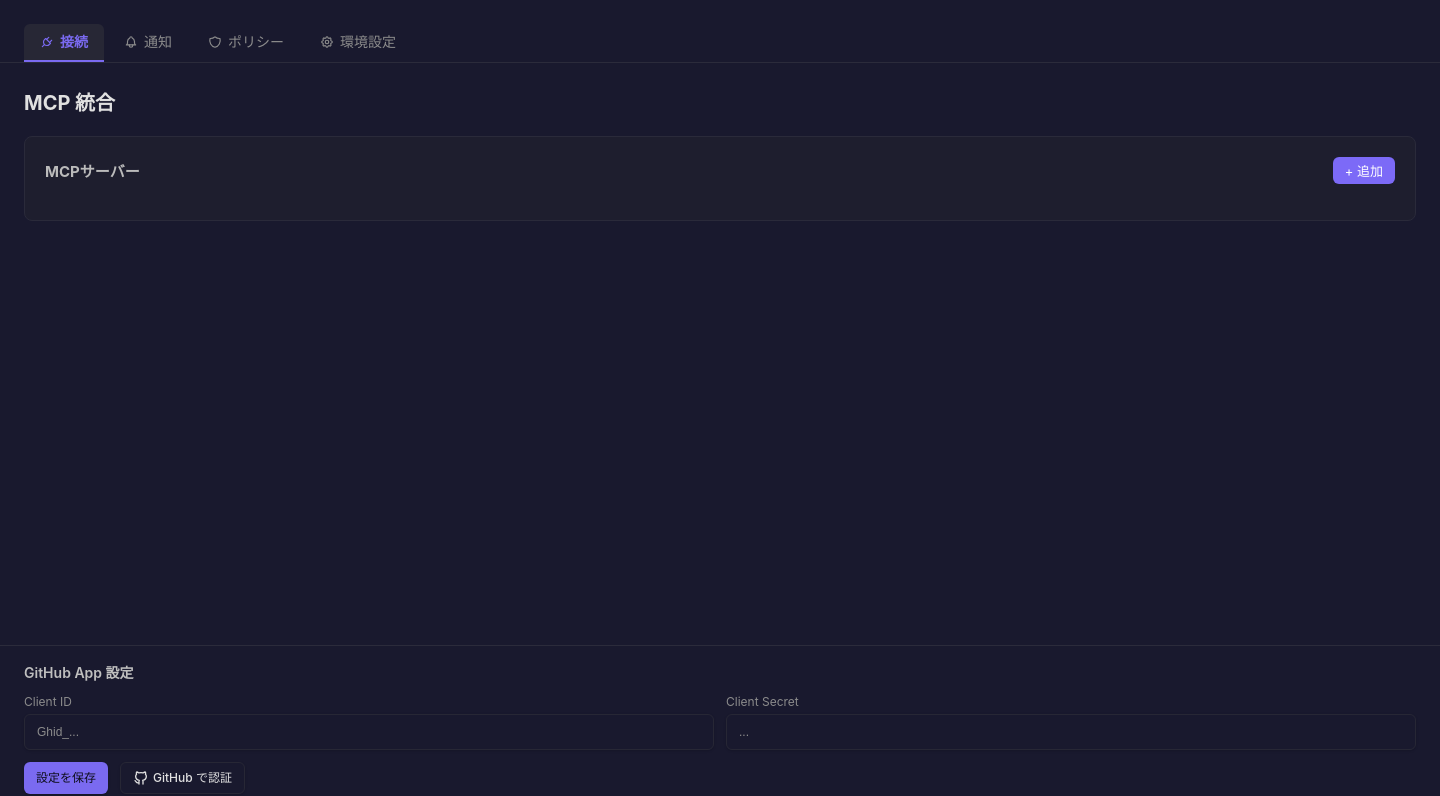
it: SettingsScreen › 環境設定タブに切り替えるとテーマボタンが表示される
Click the button "環境設定". click: x=358, y=43
box: [304,24,412,62]
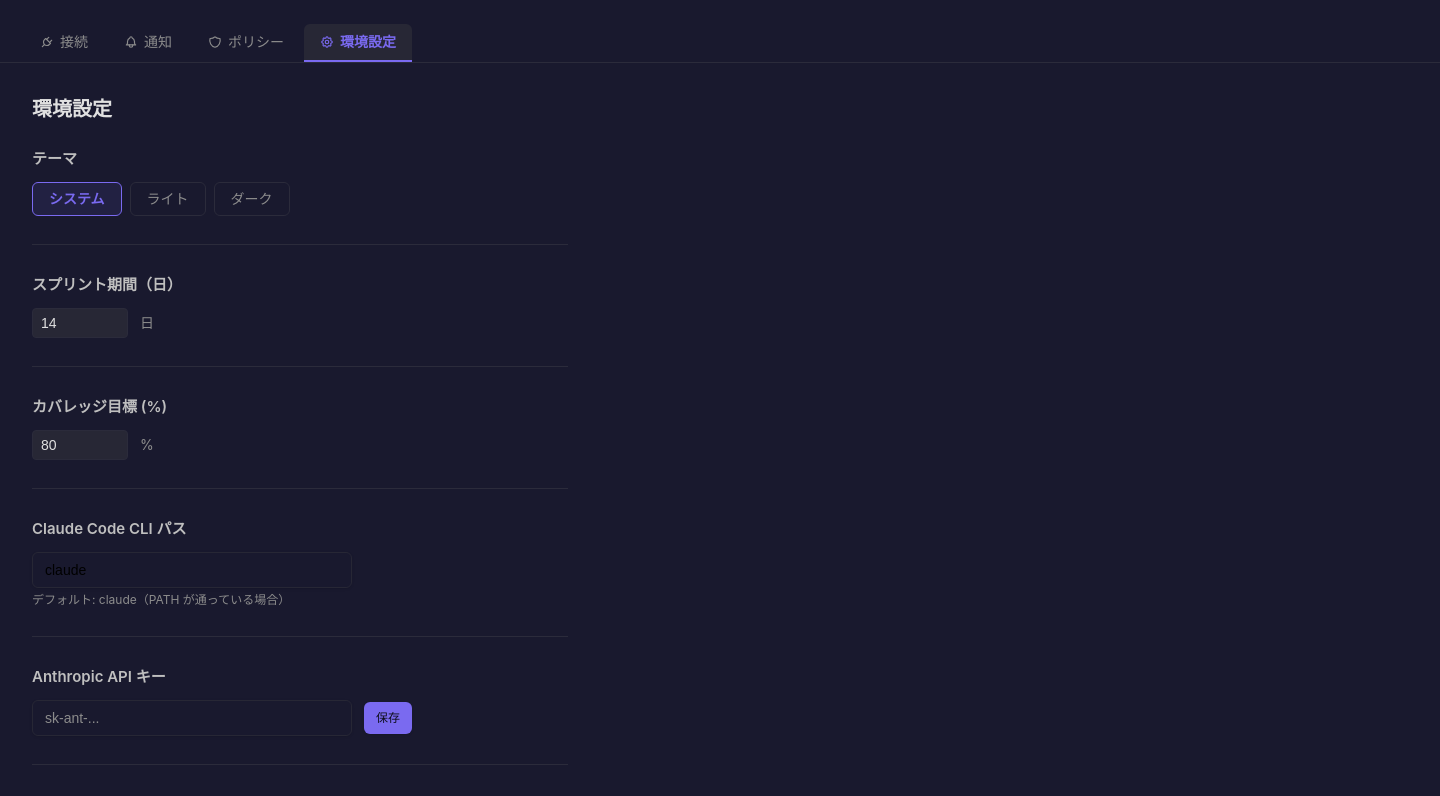
expect the button "ダーク" is shown: met, box [214,182,290,216]
expect the button "ライト" is shown: met, box [130,182,206,216]
expect the button "システム" is shown: met, box [32,182,122,216]
